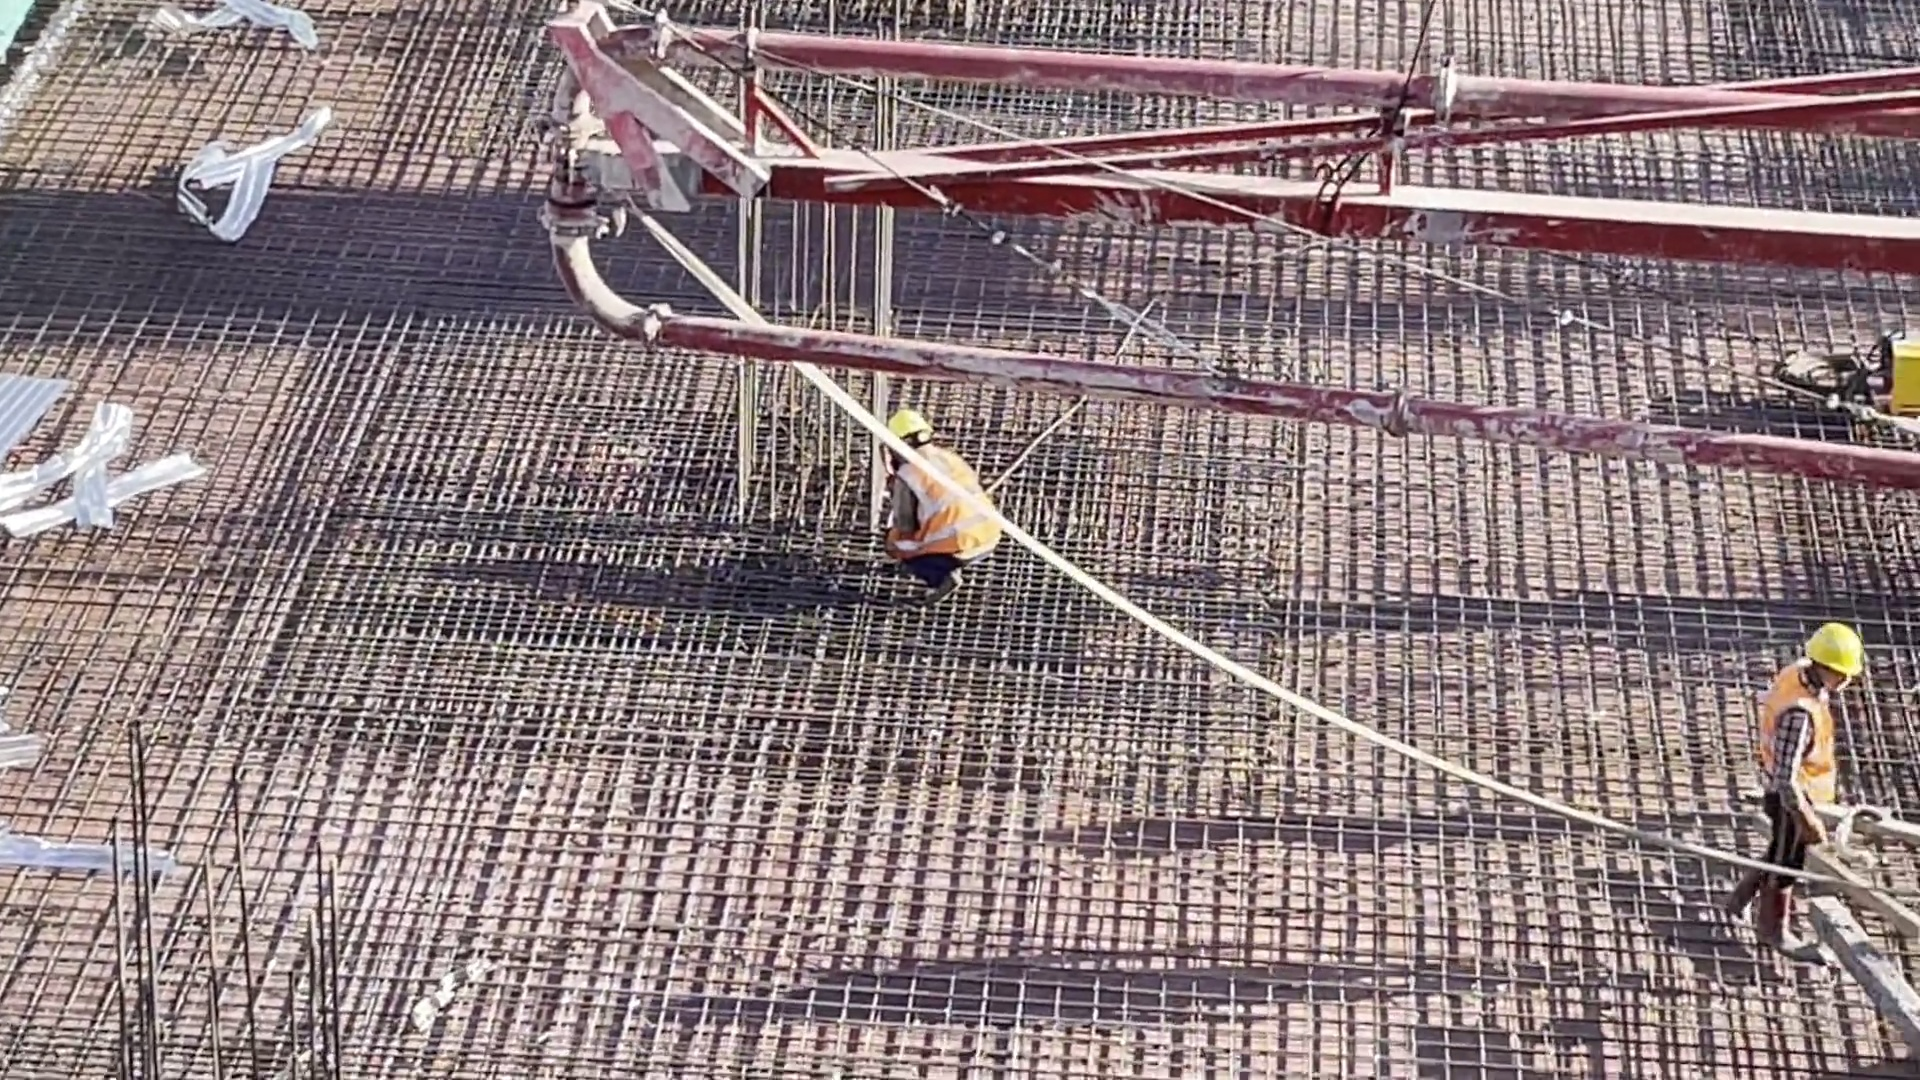helmet: (1804, 619, 1855, 672), (885, 412, 929, 437)
person: (1732, 625, 1876, 986), (868, 408, 1003, 612)
vest: (888, 445, 997, 571), (1756, 675, 1835, 823)
